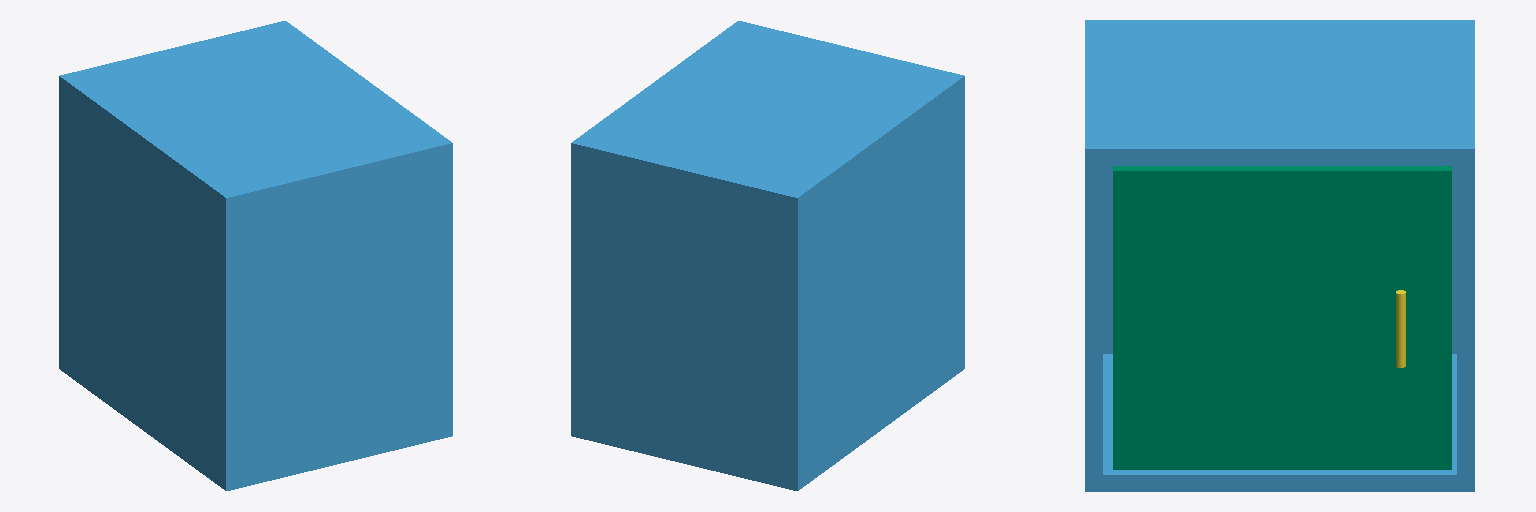
URDF robot description (my_cabinet):
<?xml version="1.0" ?>
<robot name="my_cabinet">
	<link name="world"/>
	<joint name="virtual_joint" type="fixed">
		<parent link="world"/>
		<child link="base_cabinet_link"/>
		<origin xyz="0.0 0.0 0.0" rpy="0.0 0.0 0.0"/>
	</joint>
	<link name="base_cabinet_link">
		<visual>
			<origin xyz="0.0 -0.0025 -0.17654109632494197" rpy="0.0 0.0 0.0"/>
			<geometry>
				<box size="0.3 0.3837847281399988 0.018"/>
			</geometry>
		</visual>
		<collision name="base_cabinet_link_collision_0">
			<origin xyz="0.0 -0.0025 -0.17654109632494197" rpy="0.0 0.0 0.0"/>
			<geometry>
				<box size="0.3 0.3837847281399988 0.018"/>
			</geometry>
		</collision>
		<visual>
			<origin xyz="0.0 0.18039236406999942 0.0" rpy="0.0 0.0 0.0"/>
			<geometry>
				<box size="0.3 0.018 0.37108219264988396"/>
			</geometry>
		</visual>
		<collision name="base_cabinet_link_collision_1">
			<origin xyz="0.0 0.18039236406999942 0.0" rpy="0.0 0.0 0.0"/>
			<geometry>
				<box size="0.3 0.018 0.37108219264988396"/>
			</geometry>
		</collision>
		<visual>
			<origin xyz="0.0 -0.18539236406999943 0.0" rpy="0.0 0.0 0.0"/>
			<geometry>
				<box size="0.3 0.018 0.37108219264988396"/>
			</geometry>
		</visual>
		<collision name="base_cabinet_link_collision_2">
			<origin xyz="0.0 -0.18539236406999943 0.0" rpy="0.0 0.0 0.0"/>
			<geometry>
				<box size="0.3 0.018 0.37108219264988396"/>
			</geometry>
		</collision>
		<visual>
			<origin xyz="0.0 -0.0025 0.17654109632494197" rpy="0.0 0.0 0.0"/>
			<geometry>
				<box size="0.3 0.3837847281399988 0.018"/>
			</geometry>
		</visual>
		<collision name="base_cabinet_link_collision_3">
			<origin xyz="0.0 -0.0025 0.17654109632494197" rpy="0.0 0.0 0.0"/>
			<geometry>
				<box size="0.3 0.3837847281399988 0.018"/>
			</geometry>
		</collision>
		<visual>
			<origin xyz="-0.141 -0.0025 0.0" rpy="0.0 0.0 0.0"/>
			<geometry>
				<box size="0.018 0.3837847281399988 0.37108219264988396"/>
			</geometry>
		</visual>
		<collision name="base_cabinet_link_collision_4">
			<origin xyz="-0.141 -0.0025 0.0" rpy="0.0 0.0 0.0"/>
			<geometry>
				<box size="0.018 0.3837847281399988 0.37108219264988396"/>
			</geometry>
		</collision>
		<inertial>
			<mass value="0.200000"/>
			<inertia ixx="0.004750" ixy="0.0" ixz="0.0" iyy="0.003795" iyz="0.0" izz="0.003955"/>
		</inertial>
	</link>
	<link name="door_link">
		<visual>
			<origin xyz="0.0 -0.1663923640699994 0.0"/>
			<geometry>
				<box size="0.018 0.3327847281399988 0.3250821926498839"/>
			</geometry>
		</visual>
		<collision name="door_link_collision">
			<origin xyz="0.0 -0.1663923640699994 0.0"/>
			<geometry>
				<box size="0.018 0.3327847281399988 0.3250821926498839"/>
			</geometry>
		</collision>
		<inertial>
			<mass value="0.200000"/>
			<inertia ixx="0.003607" ixy="0.0" ixz="0.0" iyy="0.001767" iyz="0.0" izz="0.001851"/>
		</inertial>
	</link>
	<joint name="door_joint" type="revolute">
		<origin xyz="0.141 -0.1663923640699994 0.0" rpy="0.000000 -0.000000 3.141593"/>
		<axis xyz="0 0 1"/>
		<parent link="base_cabinet_link"/>
		<child link="door_link"/>
		<limit effort="50" lower="-1.658062789394613" upper="0" velocity="10"/>
		<dynamics friction="3.5" damping="3.5"/>
	</joint>
	<link name="handle_link">
		<visual>
			<origin xyz="0.0 0.0 0.0" rpy="0.0 0.0 0.0"/>
			<geometry>
				<cylinder length="0.08" radius="0.005"/>
			</geometry>
		</visual>
		<collision name="handle_link_collision_0">
			<origin xyz="0.0 0.0 0.0" rpy="0.0 0.0 0.0"/>
			<geometry>
				<cylinder length="0.08" radius="0.005"/>
			</geometry>
		</collision>
		<visual>
			<origin xyz="-0.01 0.0 0.02" rpy="0.0 1.5707963267948966 0.0"/>
			<geometry>
				<cylinder length="0.02" radius="0.003"/>
			</geometry>
		</visual>
		<collision name="handle_link_collision_1">
			<origin xyz="-0.01 0.0 0.02" rpy="0.0 1.5707963267948966 0.0"/>
			<geometry>
				<cylinder length="0.01" radius="0.003"/>
			</geometry>
		</collision>
		<visual>
			<origin xyz="-0.01 0.0 -0.02" rpy="0.0 1.5707963267948966 0.0"/>
			<geometry>
				<cylinder length="0.02" radius="0.003"/>
			</geometry>
		</visual>
		<collision name="handle_link_collision_2">
			<origin xyz="-0.01 0.0 -0.02" rpy="0.0 1.5707963267948966 0.0"/>
			<geometry>
				<cylinder length="0.02" radius="0.003"/>
			</geometry>
		</collision>
		<inertial>
			<mass value="0.050000"/>
			<inertia ixx="0.000027" ixy="0.0" ixz="0.0" iyy="0.000029" iyz="0.0" izz="0.000003"/>
		</inertial>
	</link>
	<joint name="handle_joint" type="fixed">
		<origin xyz="-0.028999999999999998 -0.28278472813999883 0.0" rpy="0.000000 -0.000000 3.141593"/>
		<parent link="door_link"/>
		<child link="handle_link"/>
	</joint>
	<gazebo reference="base_cabinet_link">
		<sensor name="main_sensor" type="contact">
			<selfCollide>true</selfCollide>
			<alwaysOn>true</alwaysOn>
			<updateRate>5.0</updateRate>
			<material>Gazebo/Red</material>
			<contact>
				<collision>base_cabinet_link_collision_0_collision</collision>
				<collision>base_cabinet_link_collision_1_collision</collision>
				<collision>base_cabinet_link_collision_2_collision</collision>
				<collision>base_cabinet_link_collision_3_collision</collision>
				<collision>base_cabinet_link_collision_4_collision</collision>
			</contact>
			<plugin name="gazebo_ros_bumper_controller" filename="libgazebo_ros_bumper.so">
				<bumperTopicName>/contact</bumperTopicName>
				<frameName>world</frameName>
			</plugin>
		</sensor>
	</gazebo>
	<gazebo reference="door_link">
		<sensor name="main_sensor" type="contact">
			<selfCollide>true</selfCollide>
			<alwaysOn>true</alwaysOn>
			<updateRate>5.0</updateRate>
			<material>Gazebo/Red</material>
			<contact>
				<collision>door_link_collision_collision</collision>
			</contact>
			<plugin name="gazebo_ros_bumper_controller" filename="libgazebo_ros_bumper.so">
				<bumperTopicName>/contact_door</bumperTopicName>
				<frameName>contact_door</frameName>
			</plugin>
		</sensor>
	</gazebo>
	<gazebo reference="door_link">
		<mu>3.0</mu>
		<mu2>3.0</mu2>
		<kp>10000000</kp>
		<kd>100</kd>
	</gazebo>
</robot>

--- Render facts (derived) ---
Views: 3 orthographic renders of the robot side by side, from view 1: azimuth 30°, elevation 25°; view 2: azimuth 150°, elevation 25°; view 3: azimuth 270°, elevation 25°.
Robot: my_cabinet — 4 links, 3 joints (1 revolute, 2 fixed); root link world; default pose: every joint at zero.
Links seen in each view (by area): view 1: base_cabinet_link; view 2: base_cabinet_link; view 3: door_link, base_cabinet_link, handle_link.
Boxes of the visible links, left/top/right/bottom form: base_cabinet_link: left=59, top=21, right=452, bottom=490; base_cabinet_link: left=571, top=21, right=964, bottom=490; door_link: left=1113, top=166, right=1451, bottom=469; base_cabinet_link: left=1085, top=20, right=1474, bottom=491; handle_link: left=1396, top=290, right=1405, bottom=367.
Bounding box of the posed robot: 0.325 × 0.3838 × 0.3711 m (x, y, z).
Geometry: primitives only (box / cylinder / sphere), no mesh files.
